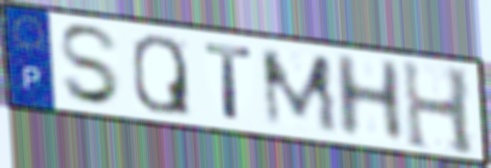H: (399, 56, 478, 158), (330, 52, 408, 142)
M: (257, 48, 343, 135)
Q: (130, 32, 194, 119)
S: (56, 22, 124, 108)
T: (201, 39, 256, 123)
